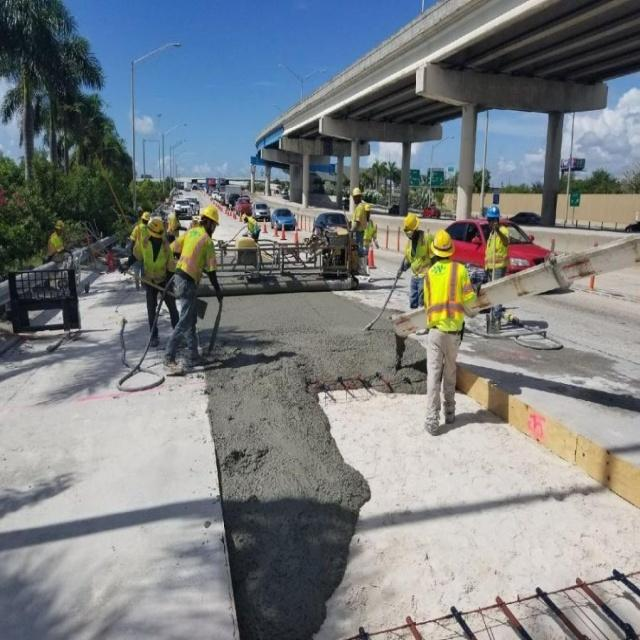helmet: (430, 307, 455, 349), (201, 273, 219, 315), (484, 270, 500, 306), (148, 290, 165, 322), (403, 287, 419, 317), (53, 292, 64, 313), (351, 248, 361, 269), (172, 268, 181, 287), (140, 283, 150, 300), (363, 271, 371, 292), (241, 282, 247, 294)
vest: (422, 347, 475, 448), (138, 318, 176, 382), (178, 306, 218, 366), (483, 302, 513, 362), (406, 311, 431, 368)
